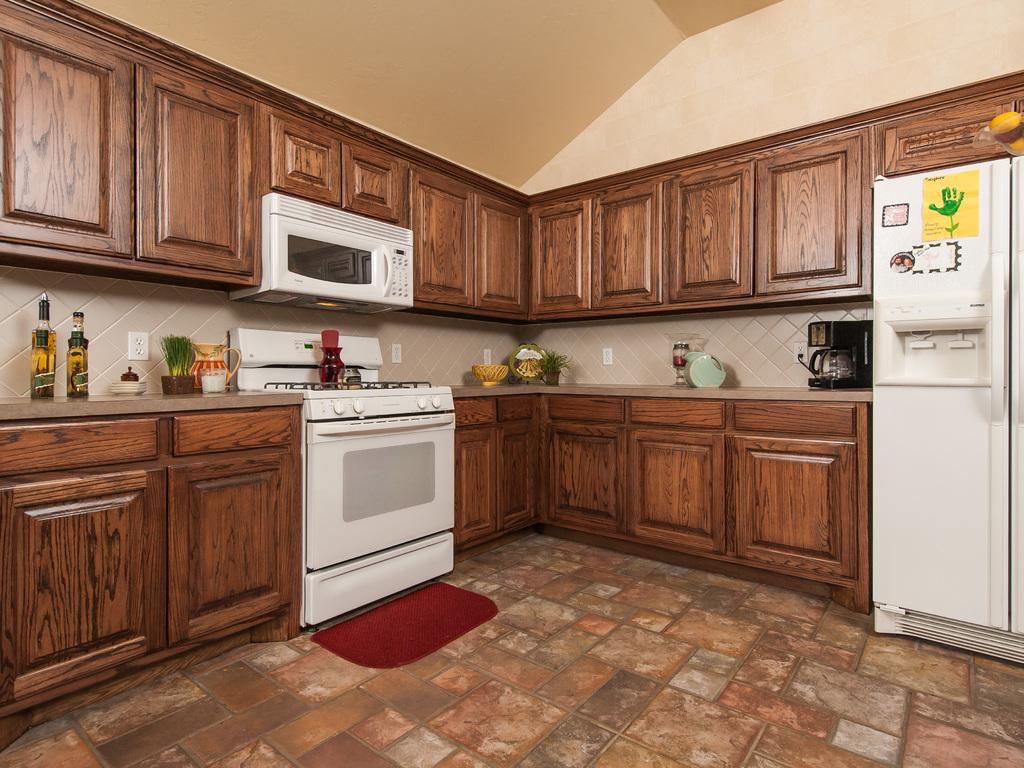cabinet door: (7, 32, 136, 245), (7, 493, 152, 656), (141, 81, 247, 265), (175, 460, 294, 613), (738, 446, 862, 574), (761, 160, 854, 288), (630, 450, 723, 549), (667, 190, 748, 297), (550, 434, 632, 529), (414, 174, 470, 298), (598, 203, 655, 303), (270, 123, 339, 196), (478, 204, 520, 303), (539, 215, 584, 304), (458, 436, 494, 535), (346, 148, 403, 210), (498, 438, 538, 523)
handle: (982, 252, 1010, 425), (326, 422, 447, 443), (1014, 252, 1024, 420), (382, 250, 396, 286)
refrigerator door: (898, 188, 1007, 624), (1011, 182, 1024, 626)
